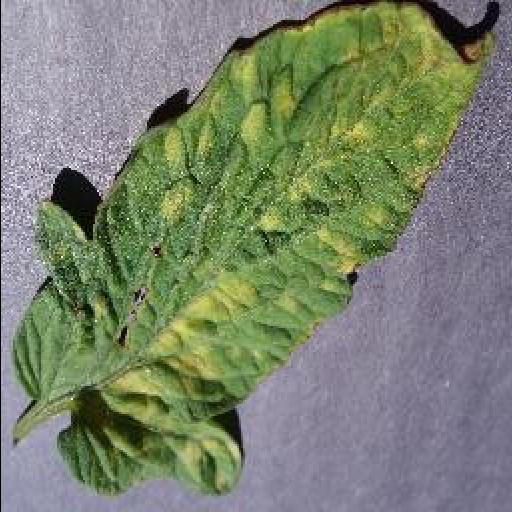disease_tomato: (14, 0, 499, 497)
